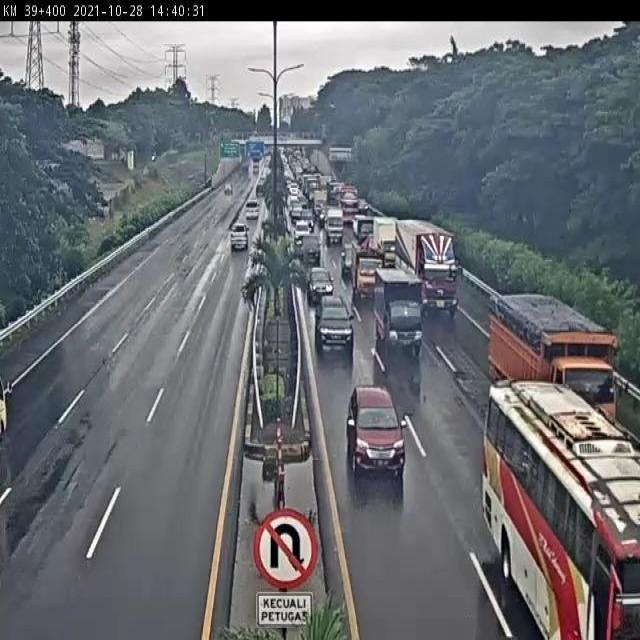bus-l-: (484, 388, 640, 640)
car: (343, 386, 407, 474), (317, 297, 353, 355), (306, 262, 335, 306), (299, 234, 322, 266), (229, 224, 250, 253), (246, 199, 260, 224)
truck-l-: (487, 293, 620, 439), (394, 219, 460, 316)
truck-m-: (373, 269, 422, 355), (350, 247, 382, 300)
